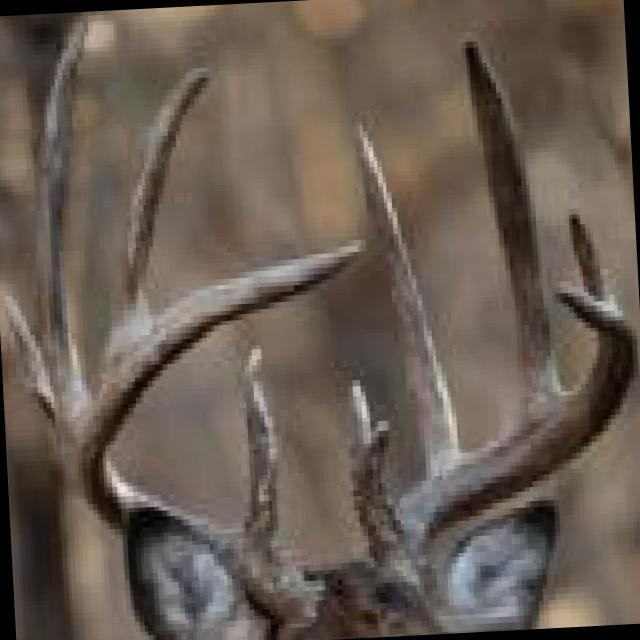L-F: (363, 289, 638, 604)
L-G1: (348, 377, 394, 528)
L-G2: (352, 116, 468, 484)
L-G3: (461, 37, 564, 419)
R-G1: (239, 337, 283, 556)
R-G3: (33, 17, 89, 418)
R-G4: (104, 63, 215, 358)
